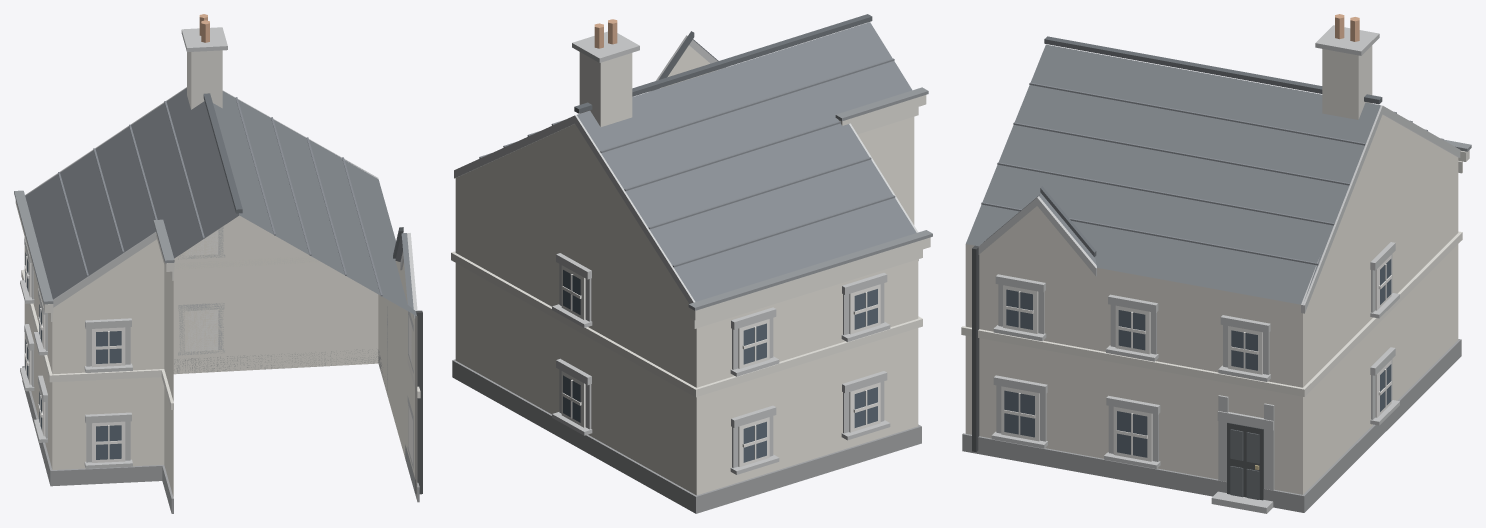
The picture shows the model from 3 angles, left to right: view 1: azimuth 30°, elevation 25°; view 2: azimuth 150°, elevation 25°; view 3: azimuth 270°, elevation 25°; orthographic projection. The views are drawn at different scales.
Visible parts, largest first — view 1: harl_cream, slate, stone_band, frame, plinth, slate_lt, string, chim_render, lead, pipe, slate_dk, window_glass_012 (+1 smaller); view 2: harl_cream, slate, stone_band, string, plinth, frame, chim_render, slate_lt, lead, slate_dk, window_glass_009, window_glass_008 (+4 smaller); view 3: harl_cream, slate, stone_band, plinth, frame, string, slate_lt, chim_render, slate_dk, door_dark_p, pipe, door_dark (+5 smaller).
Boxes of the visible parts, left/top/right/bottom form: harl_cream: left=24, top=215, right=417, bottom=500; slate: left=25, top=88, right=416, bottom=315; stone_band: left=20, top=27, right=417, bottom=469; frame: left=24, top=230, right=412, bottom=463; plinth: left=22, top=349, right=419, bottom=513; slate_lt: left=58, top=97, right=382, bottom=296; string: left=15, top=200, right=420, bottom=409; chim_render: left=187, top=50, right=222, bottom=109; lead: left=14, top=190, right=174, bottom=304; pipe: left=415, top=310, right=422, bottom=494; slate_dk: left=203, top=93, right=403, bottom=258; window_glass_012: left=96, top=425, right=121, bottom=459; harl_cream: left=455, top=45, right=918, bottom=495; slate: left=577, top=22, right=916, bottom=301; stone_band: left=454, top=31, right=918, bottom=474; string: left=451, top=95, right=930, bottom=397; plinth: left=452, top=359, right=921, bottom=513; frame: left=561, top=265, right=880, bottom=467; chim_render: left=579, top=52, right=632, bottom=126; slate_lt: left=479, top=58, right=895, bottom=267; lead: left=688, top=87, right=932, bottom=310; slate_dk: left=574, top=14, right=872, bottom=113; window_glass_009: left=743, top=323, right=766, bottom=364; window_glass_008: left=743, top=421, right=766, bottom=462; harl_cream: left=965, top=114, right=1458, bottom=494; slate: left=966, top=44, right=1380, bottom=304; stone_band: left=978, top=25, right=1460, bottom=513; plinth: left=962, top=339, right=1461, bottom=512; frame: left=1001, top=255, right=1391, bottom=461; string: left=961, top=150, right=1469, bottom=396; slate_lt: left=981, top=82, right=1443, bottom=265; chim_render: left=1322, top=45, right=1372, bottom=119; slate_dk: left=1040, top=36, right=1382, bottom=256; door_dark_p: left=1230, top=429, right=1259, bottom=499; pipe: left=972, top=245, right=979, bottom=452; door_dark: left=1227, top=422, right=1263, bottom=500.
Size of the model in its own units: 11.94 by 10.92 by 12.31.
